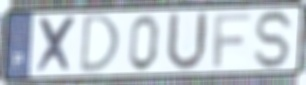0: (126, 12, 162, 73)
D: (77, 12, 122, 76)
F: (211, 11, 253, 70)
S: (253, 8, 297, 71)
U: (164, 10, 210, 74)
X: (34, 14, 79, 76)
